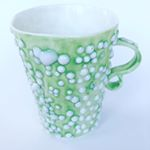cups: (6, 2, 145, 142)
